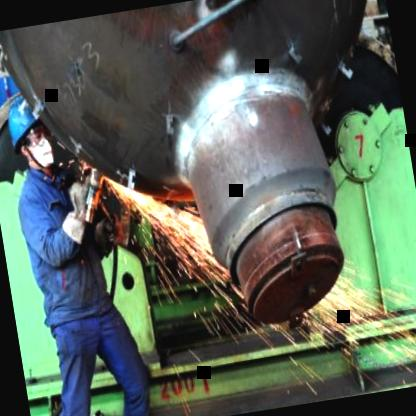helmet: (0, 86, 58, 178)
